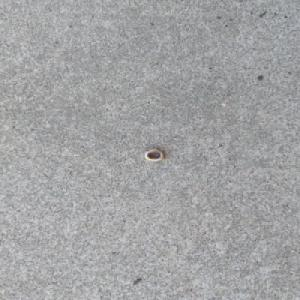Nut: (143, 148, 165, 161)
